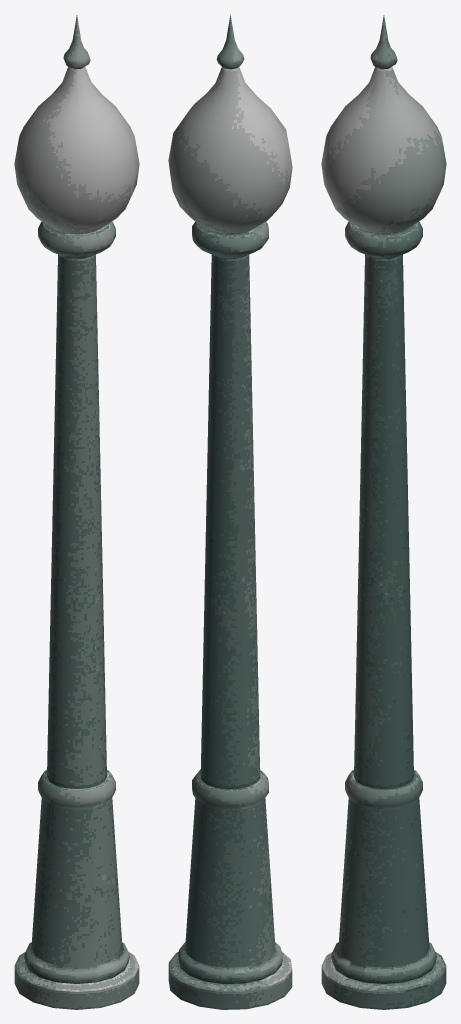
File: street_lamp_v.glb
The picture shows the model from 3 angles, left to right: view 1: azimuth 90°, elevation 25°; view 2: azimuth 150°, elevation 25°; view 3: azimuth 270°, elevation 25°; orthographic projection.
Visible parts, largest first — view 1: mesh; view 2: mesh; view 3: mesh.
Boxes of the visible parts, x1,y1,x2,y2 form: mesh: [14, 15, 139, 1009]; mesh: [168, 14, 292, 1009]; mesh: [321, 15, 446, 1009].
Bounding box in the file's own units: 0.3044 × 2.6 × 0.3044.
1 material, 1 textured.
